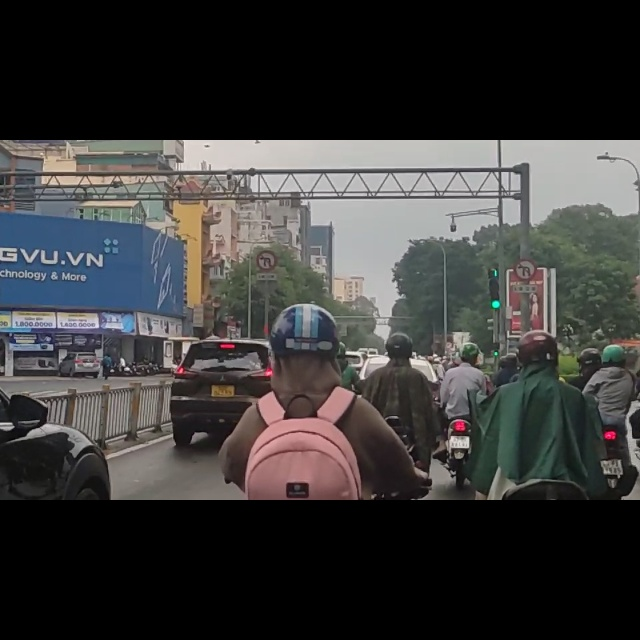bien_cam: (515, 212, 535, 251), (257, 196, 277, 231)
